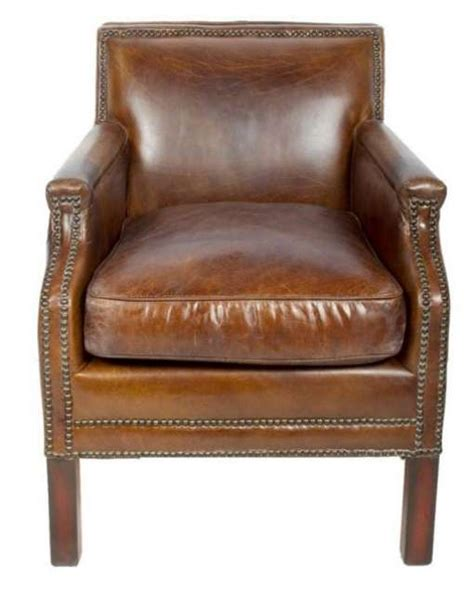cuero: (39, 27, 452, 457)
